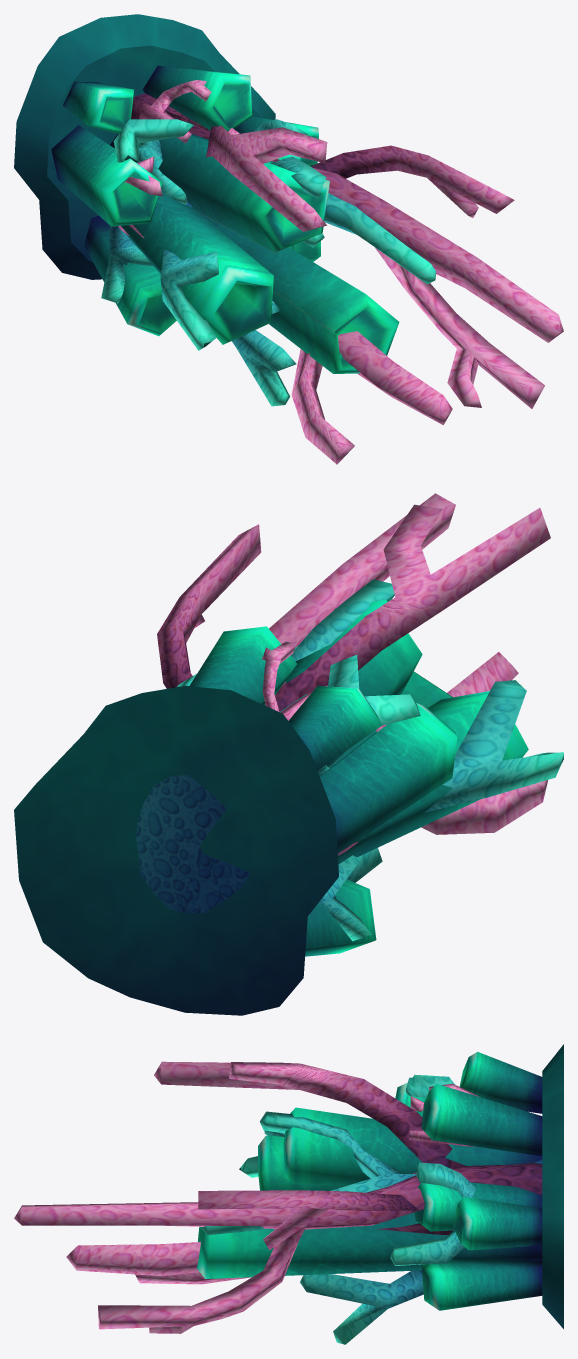
3 renders of one model, top to bottom at view 1: azimuth 30°, elevation 25°; view 2: azimuth 150°, elevation 25°; view 3: azimuth 270°, elevation 25°, orthographic. The views are drawn at different scales.
Parts seen in each view (by area): view 1: dizuo, SH2, SH1, SH3; view 2: SH1, dizuo (×2), SH2, SH3; view 3: dizuo, SH2, SH3, SH1.
Part boxes in pixels (<box>): dizuo: <box>51,65,399,373</box>; SH2: <box>118,80,563,464</box>; SH1: <box>14,14,275,279</box>; SH3: <box>101,119,435,406</box>; SH1: <box>14,685,338,1015</box>; dizuo (×2): <box>136,599,528,956</box>; SH2: <box>157,493,550,855</box>; SH3: <box>177,579,563,941</box>; dizuo: <box>197,1051,542,1310</box>; SH2: <box>14,1061,542,1333</box>; SH3: <box>200,1074,542,1344</box>; SH1: <box>542,1044,563,1329</box>.
Size of the model in its own units: 73.32 by 73.23 by 135.
1 material, 1 textured.
